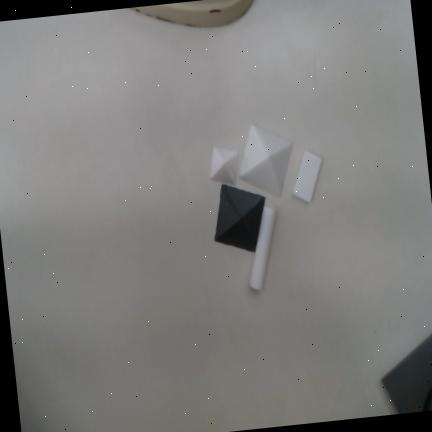Cilindro: (249, 206, 277, 291)
Paralelepipedo: (293, 150, 323, 203)
Piramide: (238, 123, 294, 199), (214, 183, 266, 253), (210, 146, 239, 186)
